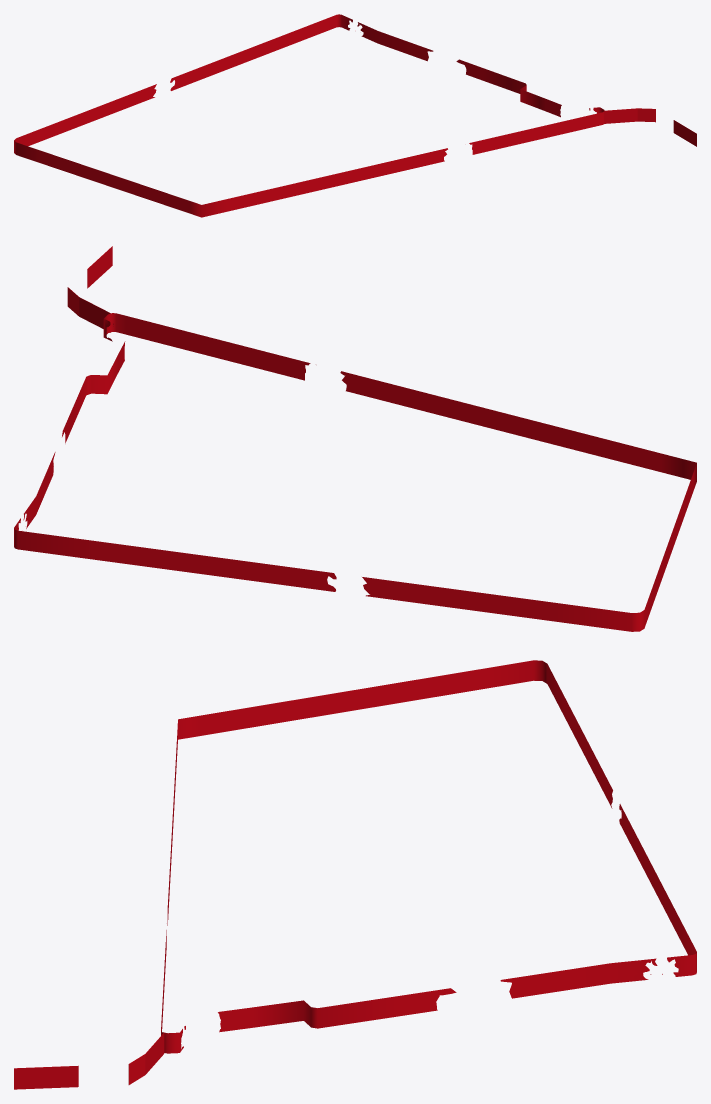
File: Damaged vent sails.fbx
The picture shows the model from 3 angles, top to bottom: view 1: azimuth 30°, elevation 25°; view 2: azimuth 150°, elevation 25°; view 3: azimuth 270°, elevation 25°; orthographic projection. The views are drawn at different scales.
Parts seen in each view (by area): view 1: Plane.002, Plane.005, Plane.003, Plane.006, Plane.007, Plane.001, Plane; view 2: Plane.002, Plane.005, Plane.003, Plane.006, Plane.001; view 3: Plane.002, Plane.006, Plane.007, Plane.005, Plane, Plane.001.
Part boxes in pixels (x1,y1,x2,y2): Plane.002: (14,84,447,217); Plane.005: (170,14,352,90); Plane.003: (469,107,604,154); Plane.006: (456,59,561,117); Plane.007: (357,22,433,61); Plane.001: (604,108,655,123); Plane: (673,120,696,146); Plane.002: (340,371,696,631); Plane.005: (14,518,336,591); Plane.003: (103,313,310,380); Plane.006: (62,341,125,443); Plane.001: (67,287,110,332); Plane.002: (167,660,612,925); Plane.006: (218,988,456,1032); Plane.007: (500,958,657,998); Plane.005: (619,804,696,976); Plane: (14,1065,78,1089); Plane.001: (128,1032,164,1084).
Size of the model in its own units: 4059 by 98.46 by 2871.
